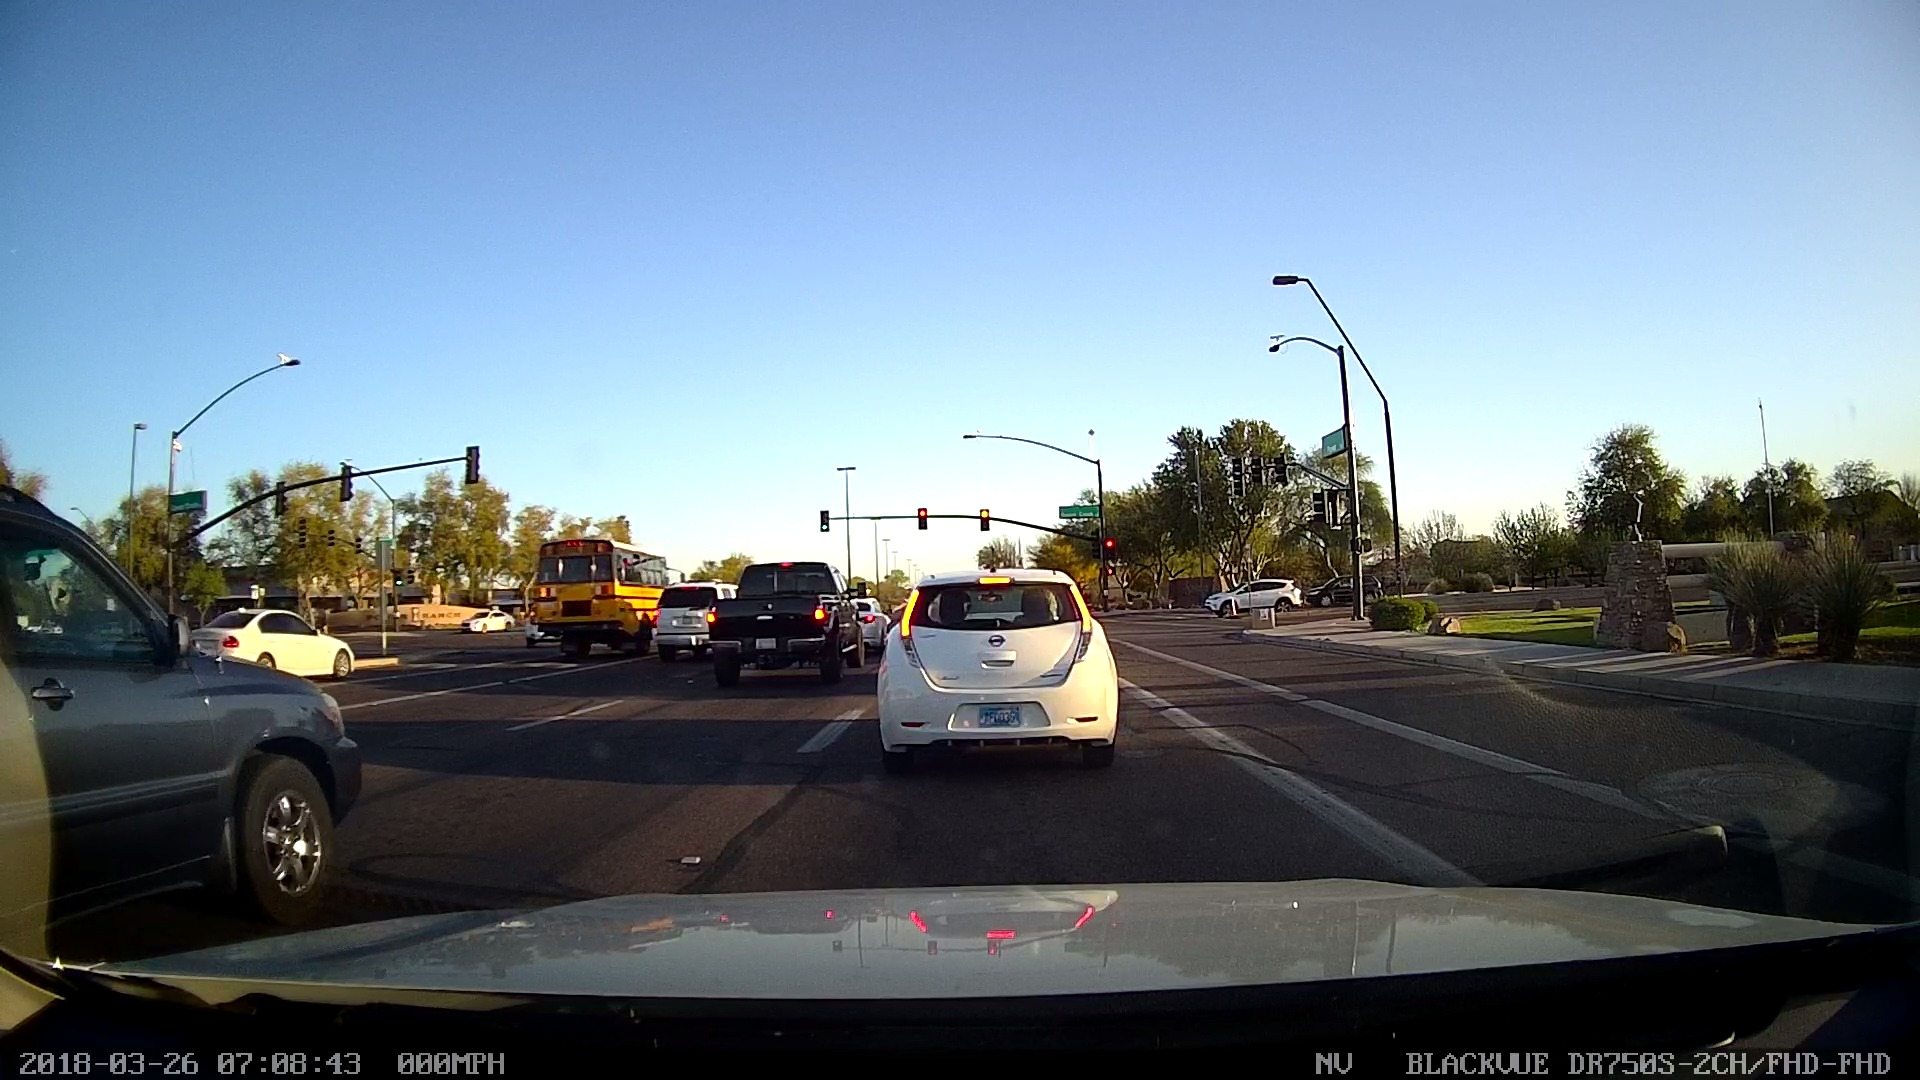vehicle: (4, 465, 352, 953), (860, 559, 1131, 771), (676, 537, 876, 698), (518, 527, 687, 671), (182, 597, 365, 702), (1197, 567, 1305, 618), (955, 695, 1046, 742), (1298, 567, 1379, 617)
